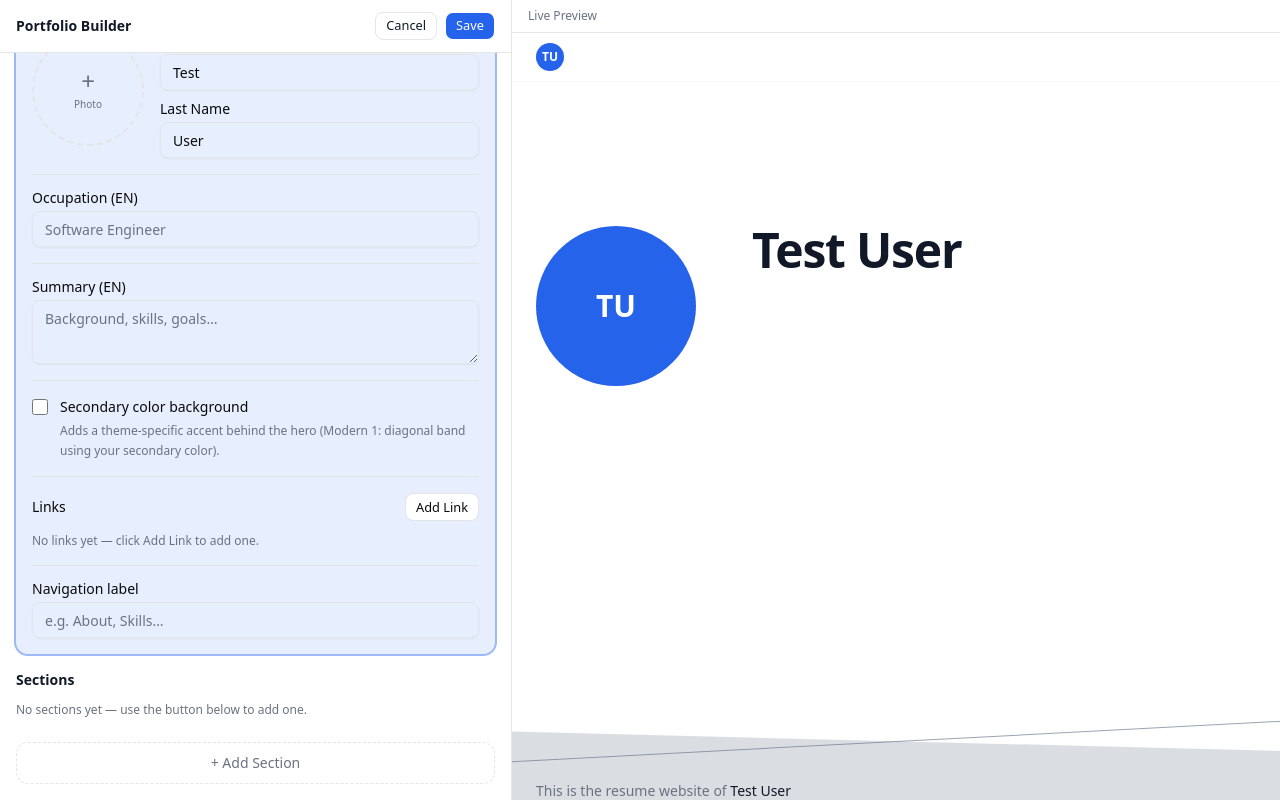
PortfolioBuilder — sections › adding a section shows it in the editor and updates the live preview
(page scrolled)
# Open type picker
Click the button "+ Add Section" at (256, 763), box [16, 742, 495, 784]
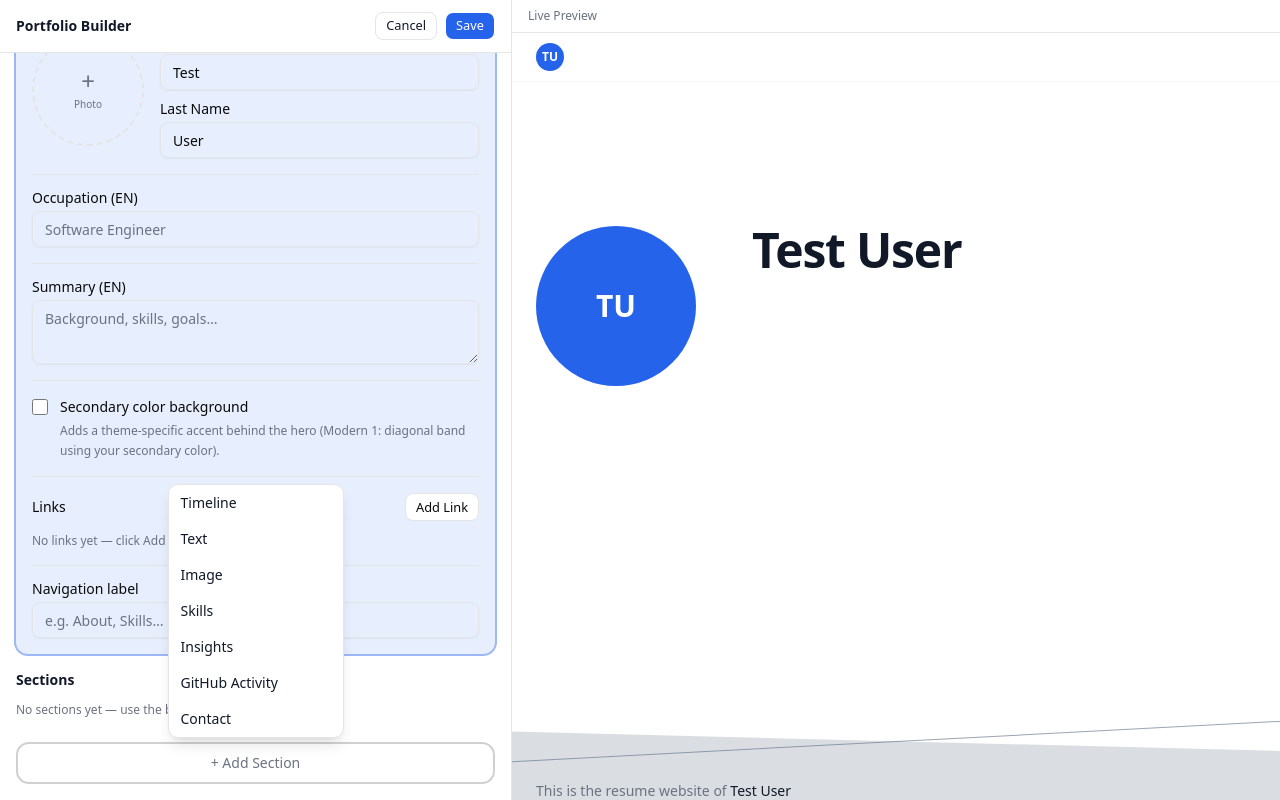
# Pick "Text"
Click the button "Text" at (256, 539), box [168, 521, 342, 557]
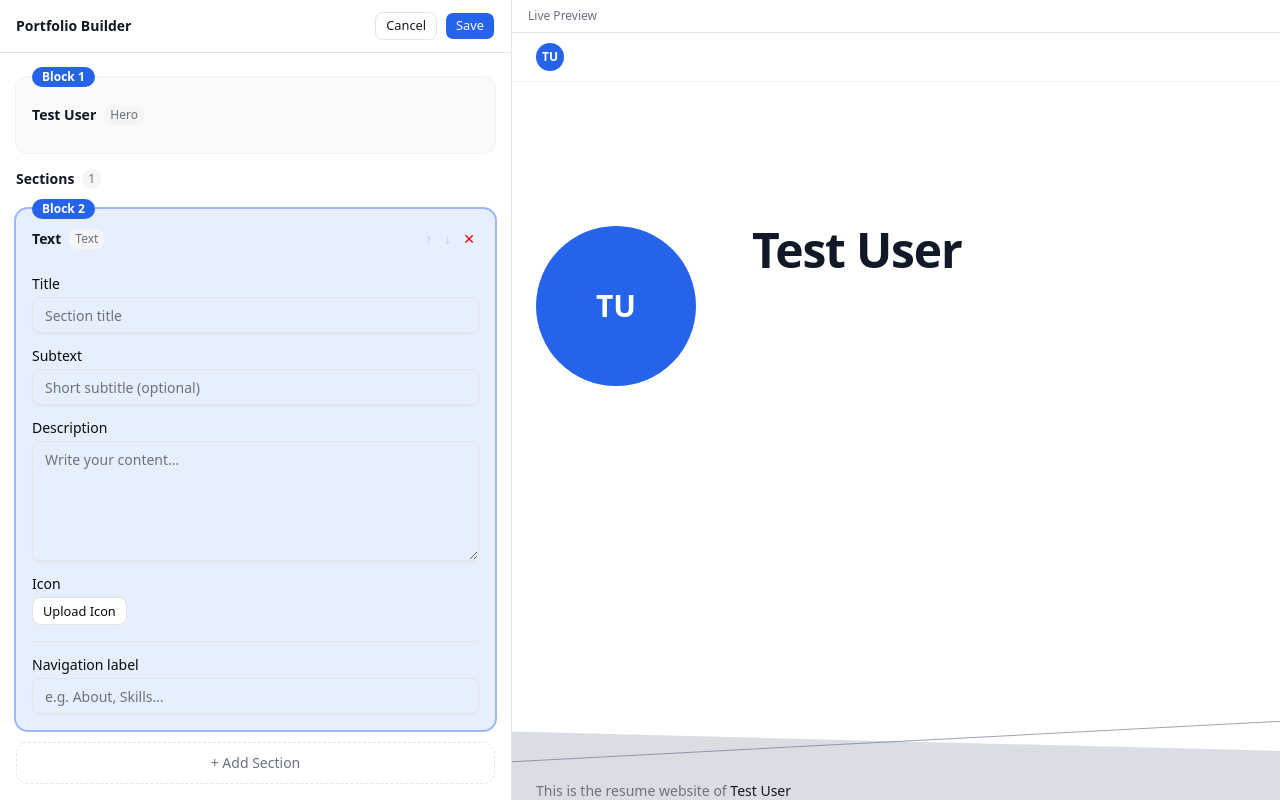
expect the field with placeholder "Section title" is shown: met
# Type a title — live preview should reflect it immediately
Type "Hello Preview" into the field with placeholder "Section title" at (256, 315), box [32, 297, 479, 333]
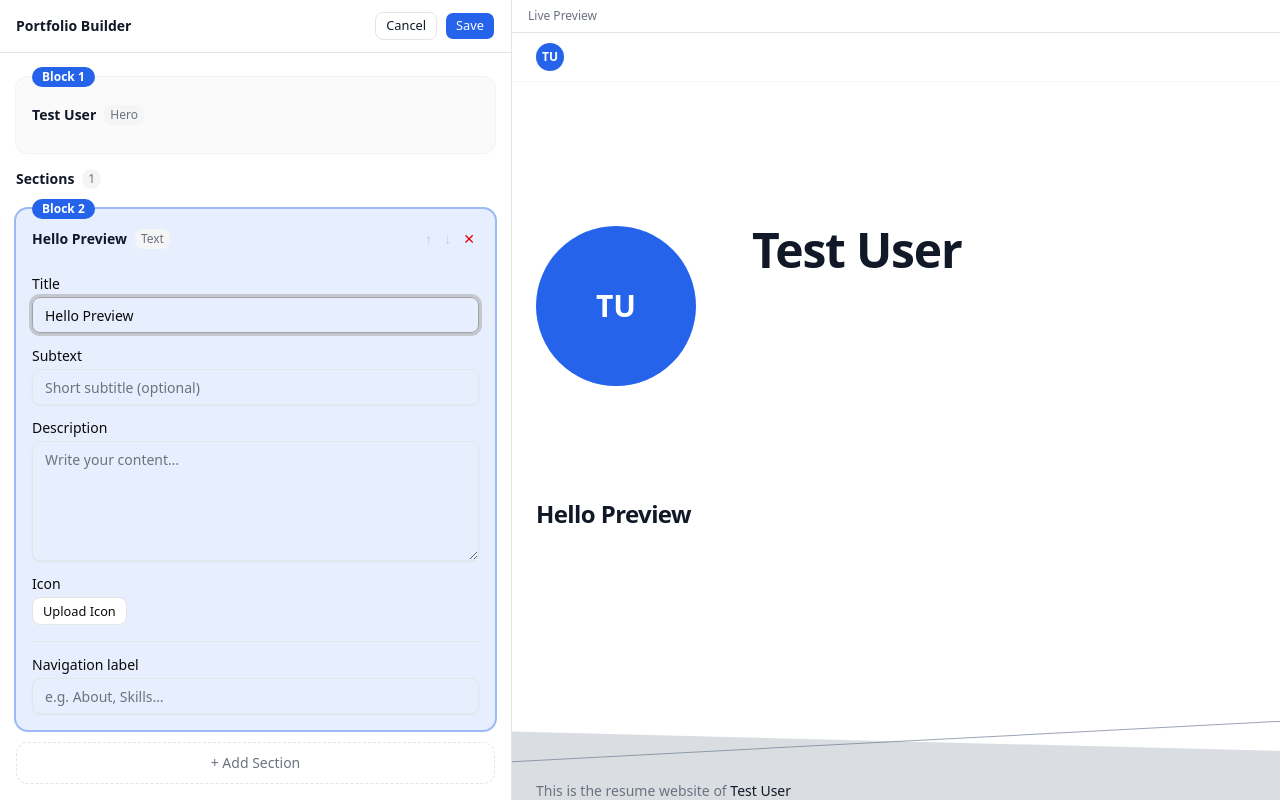
expect the heading "Hello Preview" is shown: met, box [536, 498, 691, 530]
